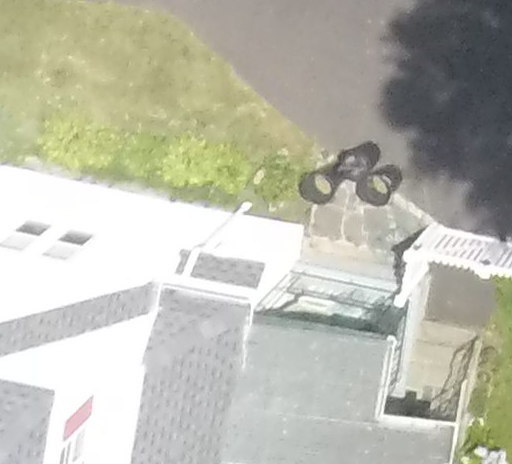container: (351, 155, 405, 210), (297, 163, 352, 217), (330, 122, 381, 179)
trash bin: (334, 135, 392, 182), (293, 157, 346, 205), (356, 158, 407, 203)
